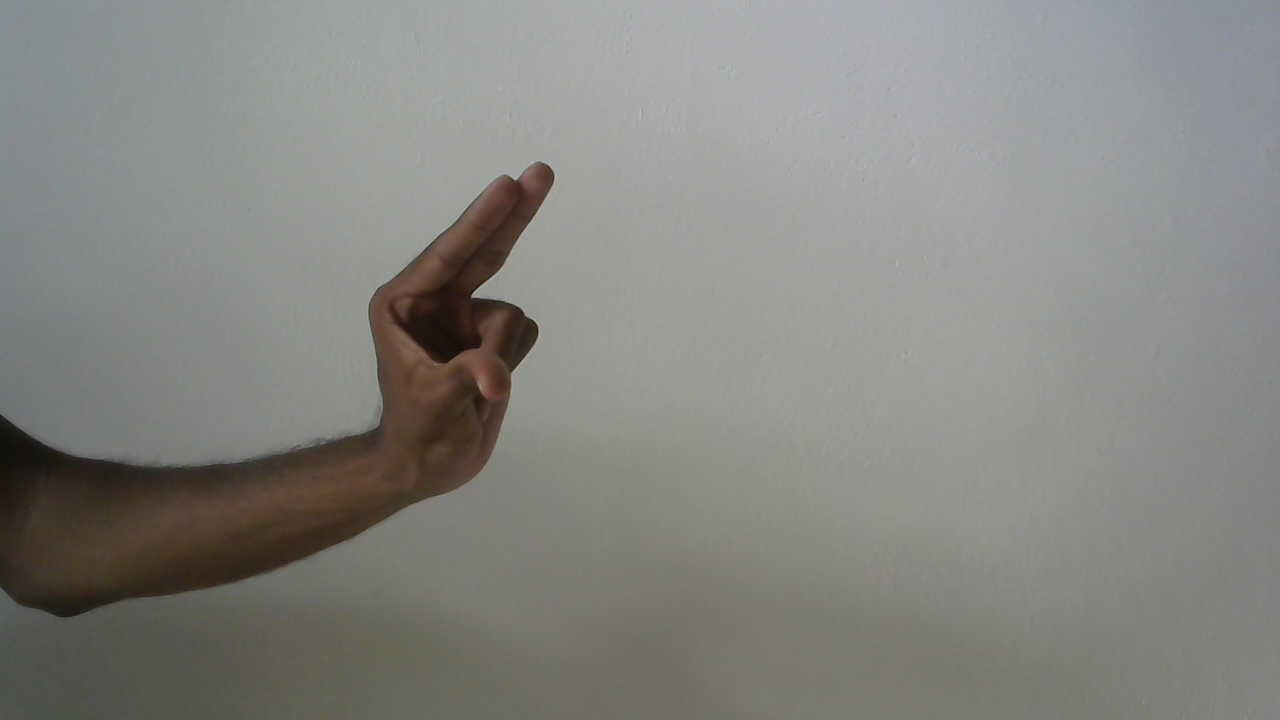no: (357, 144, 569, 515)
